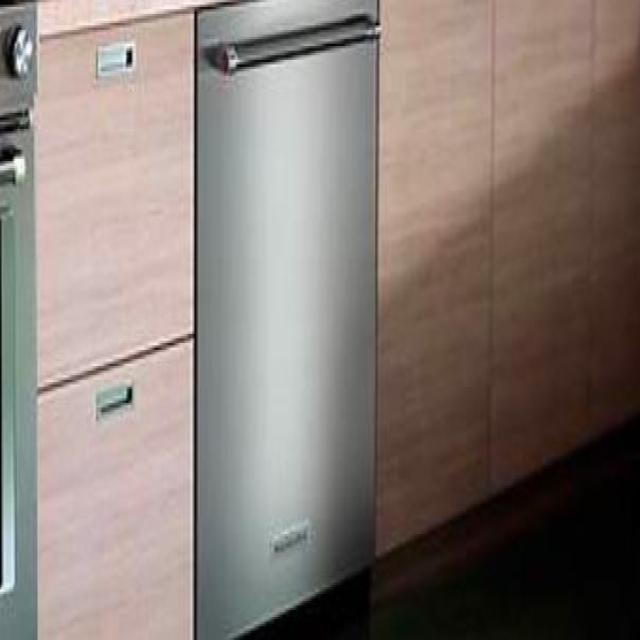dishwasher: (194, 2, 378, 636)
